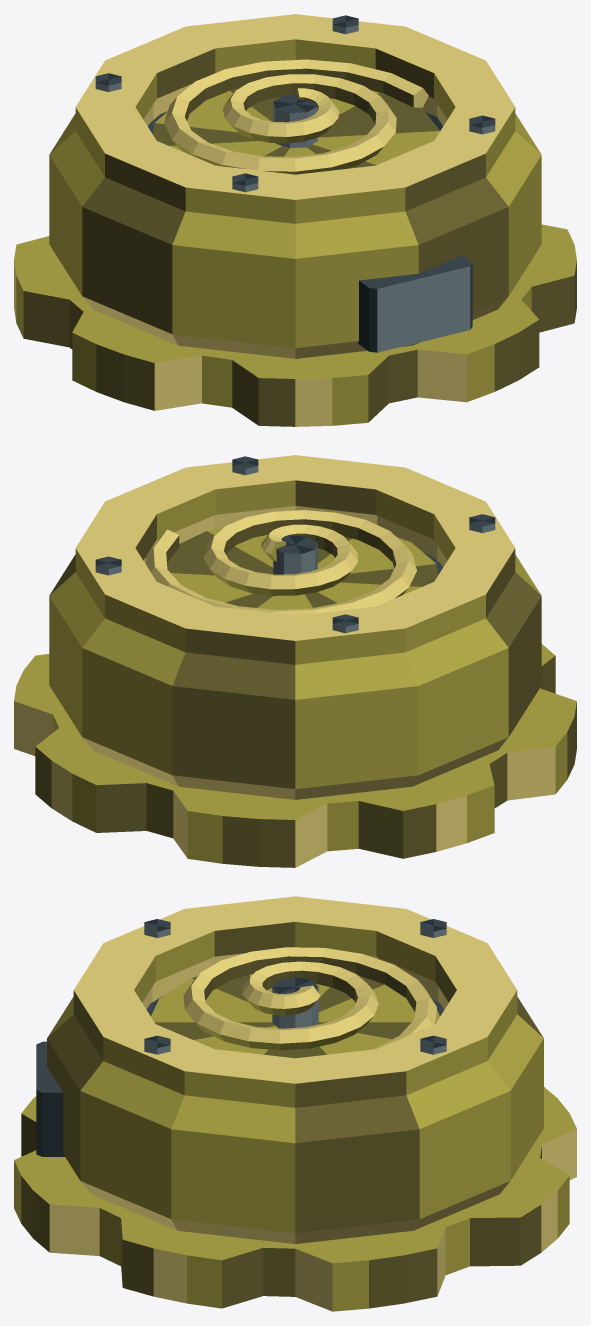
Rendered from gold_extractor.fbx.
3 renders of one model, top to bottom at view 1: azimuth 30°, elevation 25°; view 2: azimuth 150°, elevation 25°; view 3: azimuth 270°, elevation 25°, orthographic.
Visible parts, largest first — view 1: gold_extractor_body, gold_extractor_rotor; view 2: gold_extractor_body, gold_extractor_rotor; view 3: gold_extractor_body, gold_extractor_rotor.
Part boxes in pixels (bbox=[...]): gold_extractor_body: bbox=[14, 14, 576, 426]; gold_extractor_rotor: bbox=[152, 59, 439, 174]; gold_extractor_body: bbox=[14, 455, 576, 867]; gold_extractor_rotor: bbox=[145, 510, 438, 615]; gold_extractor_body: bbox=[14, 896, 576, 1311]; gold_extractor_rotor: bbox=[151, 947, 439, 1058].
Size of the model in its own units: 3.17 by 1.32 by 3.17.
Materials: 1 (1 with a texture image).
